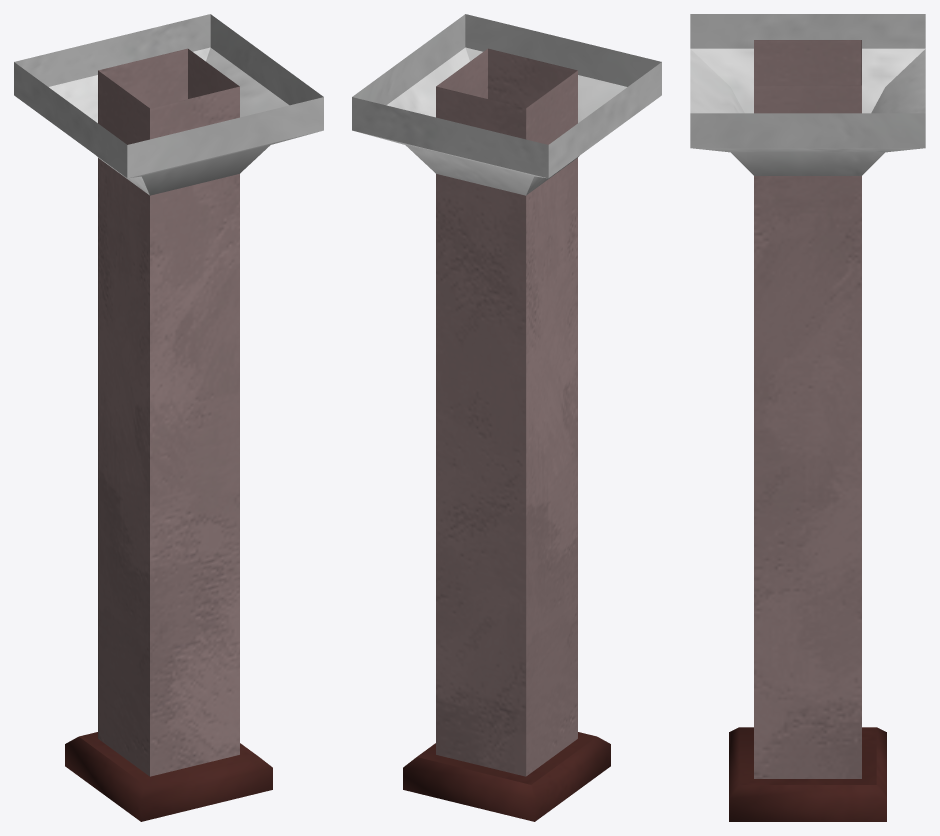
Rendered from coln.fbx.
The picture shows the model from 3 angles, left to right: view 1: azimuth 30°, elevation 25°; view 2: azimuth 150°, elevation 25°; view 3: azimuth 270°, elevation 25°; orthographic projection. The views are drawn at different scales.
Parts seen in each view (by area): view 1: Cube, Cube.002, Cube.001; view 2: Cube, Cube.002, Cube.001; view 3: Cube, Cube.002, Cube.001.
Part boxes in pixels (box(x1,y1,x2,y2)): Cube: box(98, 48, 239, 776); Cube.002: box(14, 14, 323, 195); Cube.001: box(65, 732, 272, 821); Cube: box(436, 48, 577, 776); Cube.002: box(352, 14, 661, 195); Cube.001: box(403, 732, 610, 821); Cube: box(754, 40, 861, 778); Cube.002: box(690, 14, 925, 175); Cube.001: box(729, 727, 886, 821).
Bounding box in the file's own units: 105 × 357 × 105.
Materials: 1 (1 with a texture image).
